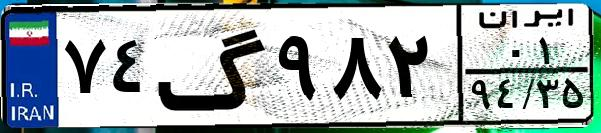0: (508, 27, 537, 80)
1: (537, 27, 568, 80)
2: (385, 28, 445, 110)
3: (535, 70, 560, 125)
4: (110, 28, 156, 98), (495, 70, 520, 125)
5: (560, 70, 590, 125)
7: (57, 26, 110, 100)
8: (330, 28, 385, 110)
9: (270, 28, 330, 110), (470, 70, 495, 125)
گ: (156, 12, 270, 120)
